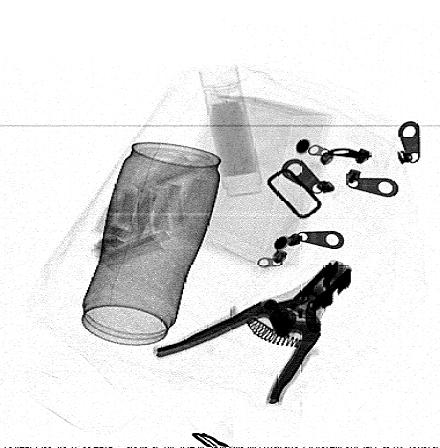Pliers: (156, 261, 352, 407)
